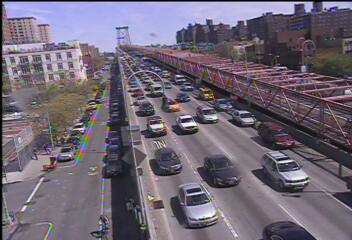neg: (107, 161, 118, 176), (73, 102, 82, 113)
pos: (92, 213, 110, 237), (29, 146, 39, 160), (38, 142, 47, 154)
